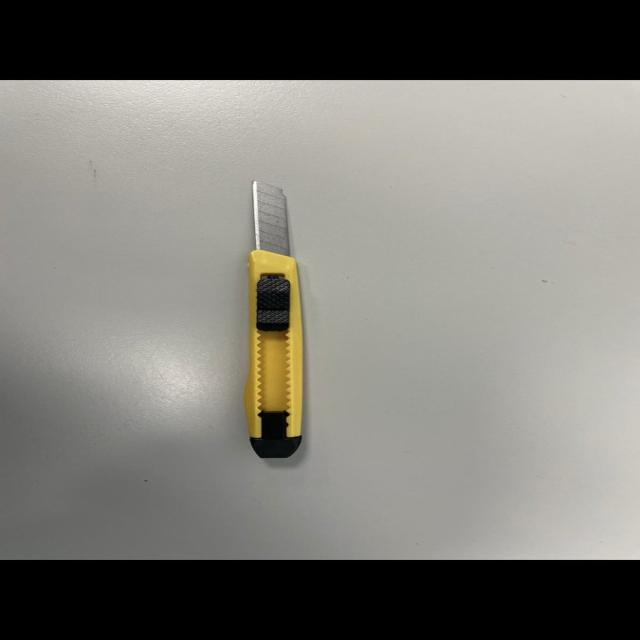Sharp-Object: (238, 182, 306, 459)
